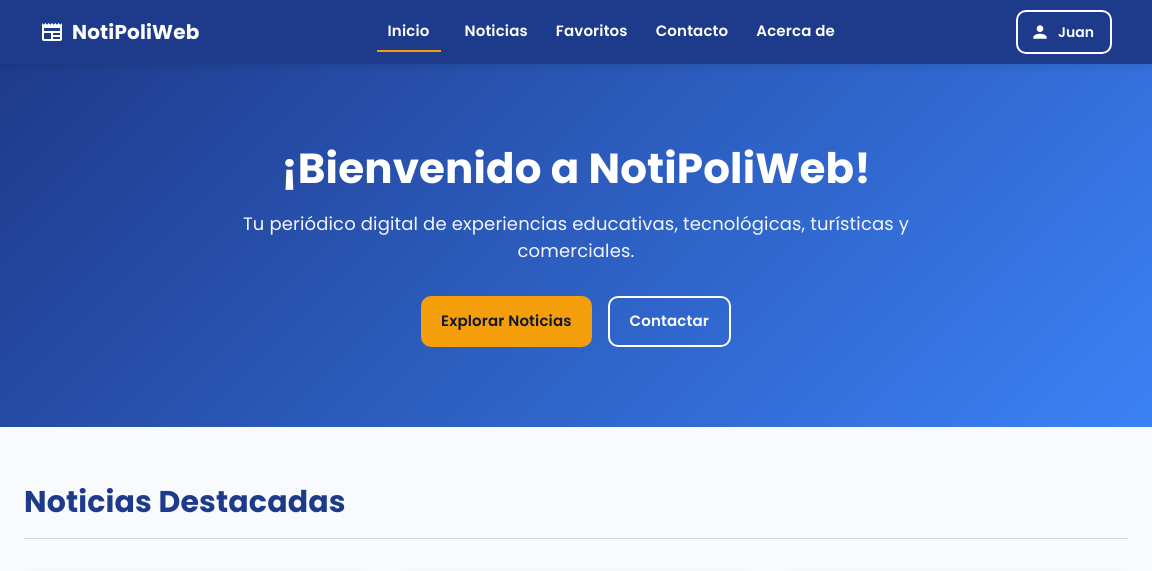
it: Vista unificada de noticias › el menú privado ya no ofrece dos destinos para lo mismo
Click the button "Juan": (1064, 32) top-left (1016, 10), bottom-right (1112, 54)
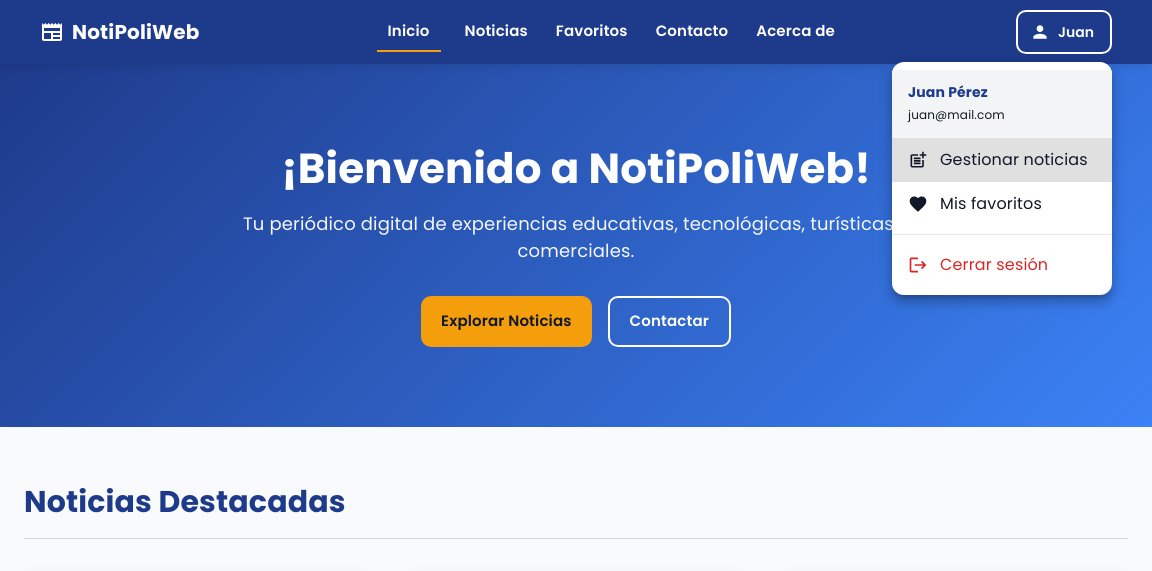
expect the menu item "Gestionar noticias" is shown: met, box top-left (892, 138), bottom-right (1112, 182)
